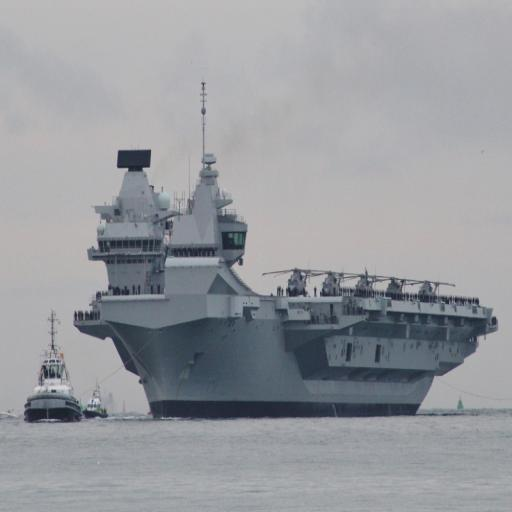Portanaves: (70, 79, 501, 426)
